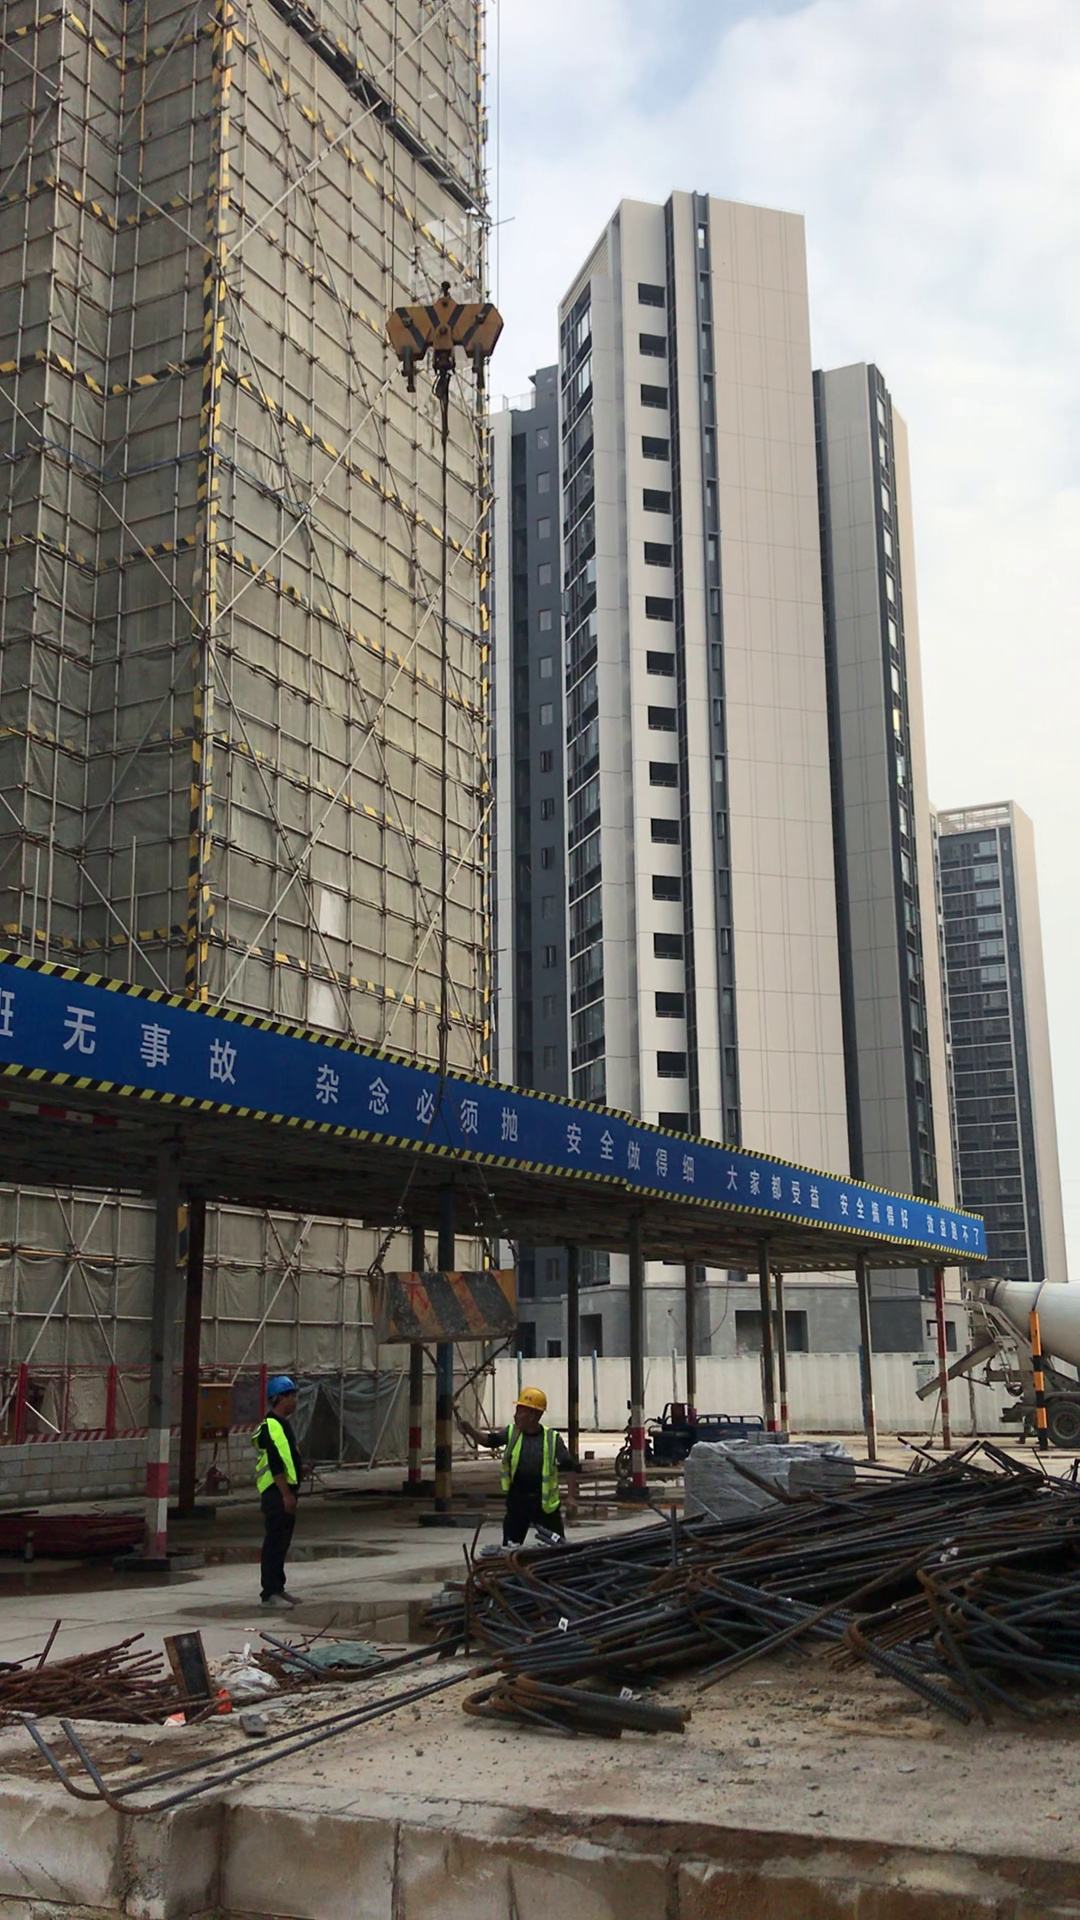ebox: (199, 1379, 243, 1455)
fence: (2, 1363, 264, 1447)
helmet: (508, 1386, 552, 1411), (269, 1373, 305, 1397)
hook: (382, 276, 516, 382)
hopper: (359, 1257, 534, 1349)
person: (231, 1370, 343, 1621), (455, 1386, 606, 1557)
slogan: (5, 959, 986, 1259)
vest: (503, 1424, 563, 1514), (255, 1416, 302, 1492)
